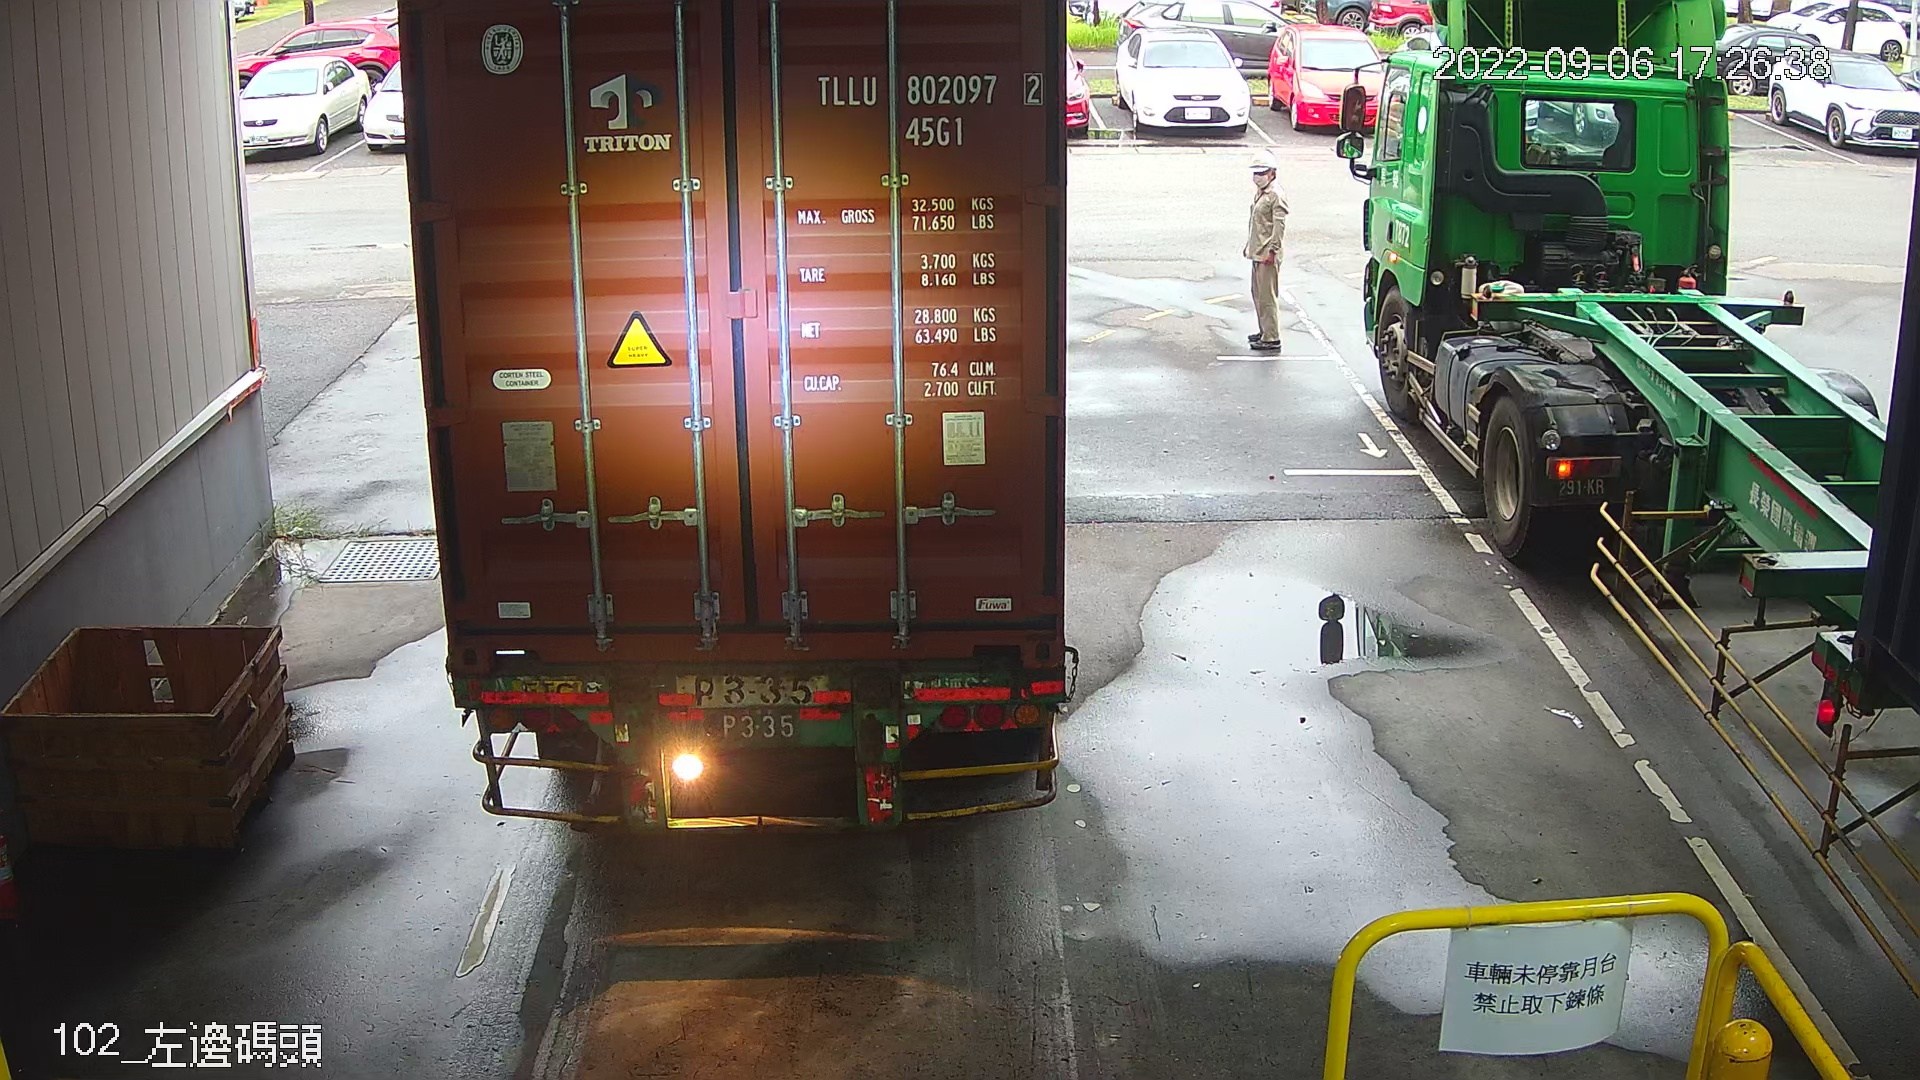container: (806, 61, 1051, 156)
